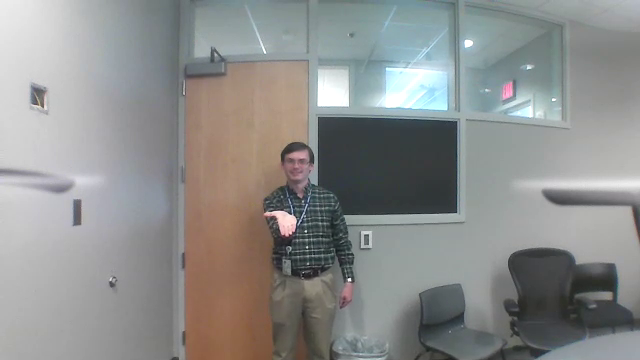land: (255, 206, 300, 241)
